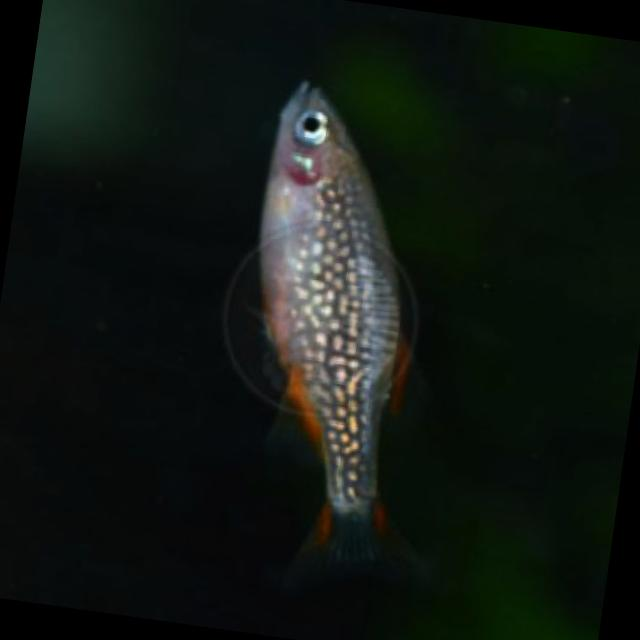ZebraFish: (210, 75, 504, 608)
